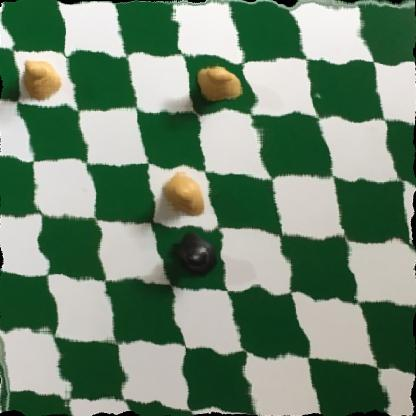black-pawn: (163, 228, 223, 285)
white-pawn: (151, 171, 209, 219), (192, 61, 245, 108), (15, 57, 62, 96)
